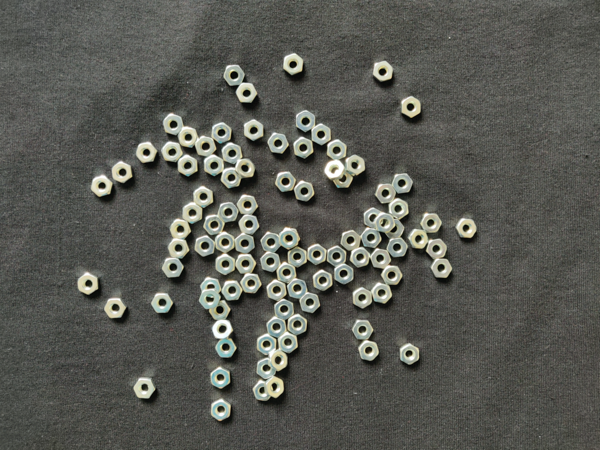nut: (91, 174, 113, 198), (134, 377, 157, 399), (78, 272, 99, 296), (203, 155, 225, 177), (223, 65, 246, 86), (266, 316, 287, 339), (105, 298, 127, 319), (151, 293, 173, 314), (136, 142, 158, 163), (161, 141, 183, 162), (163, 114, 184, 136), (199, 289, 221, 310), (203, 215, 225, 236), (215, 254, 236, 276), (324, 160, 346, 181), (426, 239, 448, 260), (194, 186, 214, 209), (178, 154, 198, 177), (212, 122, 232, 145), (296, 110, 316, 133), (399, 343, 419, 366), (178, 127, 199, 148), (195, 136, 216, 157), (222, 143, 243, 164), (241, 273, 262, 294), (237, 195, 258, 216), (266, 281, 287, 302), (300, 293, 321, 314), (268, 133, 289, 154), (373, 61, 394, 82), (358, 341, 379, 362), (112, 162, 132, 184), (169, 220, 191, 240), (221, 167, 241, 189), (234, 159, 256, 179), (211, 399, 231, 421), (215, 339, 237, 359), (212, 320, 234, 340), (209, 301, 231, 321), (200, 278, 222, 298), (215, 231, 235, 253), (238, 215, 260, 235), (236, 83, 258, 103), (288, 314, 308, 336), (277, 262, 297, 284), (283, 54, 303, 76), (294, 137, 314, 159), (401, 96, 421, 118), (352, 320, 374, 340), (372, 283, 392, 305), (389, 198, 409, 220), (456, 219, 478, 239), (265, 376, 284, 399), (168, 239, 189, 259), (182, 203, 202, 224), (195, 236, 215, 257), (218, 203, 239, 223), (244, 120, 264, 141), (253, 381, 273, 402), (278, 333, 298, 354), (287, 279, 308, 299), (313, 270, 333, 291), (327, 140, 347, 161), (341, 230, 361, 251), (381, 266, 402, 286), (361, 228, 382, 248), (370, 249, 391, 269), (387, 238, 408, 258), (375, 213, 396, 233), (375, 184, 396, 204), (392, 174, 413, 194), (409, 229, 429, 250), (421, 214, 442, 234), (162, 259, 184, 278), (211, 367, 230, 389), (236, 233, 255, 255), (257, 358, 276, 380), (269, 350, 288, 372), (275, 299, 294, 321), (279, 228, 298, 250), (327, 246, 346, 268), (312, 124, 331, 146), (364, 208, 383, 230), (261, 253, 281, 273), (276, 172, 296, 192), (350, 247, 370, 267), (384, 219, 404, 239), (258, 334, 277, 355), (260, 233, 281, 252), (335, 264, 354, 285), (295, 181, 314, 202), (346, 155, 365, 176), (353, 288, 372, 309), (431, 259, 452, 278), (222, 282, 242, 301), (236, 255, 256, 274), (289, 247, 307, 268), (308, 244, 326, 265), (334, 171, 353, 188)
